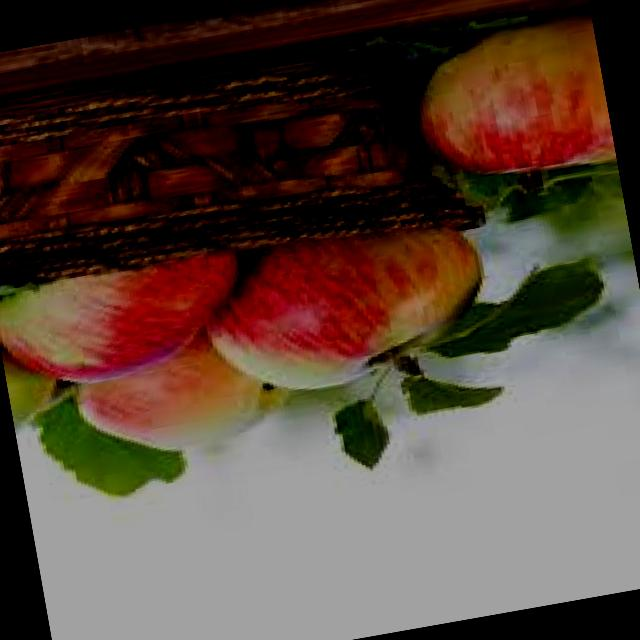Apple: (200, 205, 498, 408), (0, 244, 263, 397), (406, 8, 617, 194), (72, 318, 291, 467)
